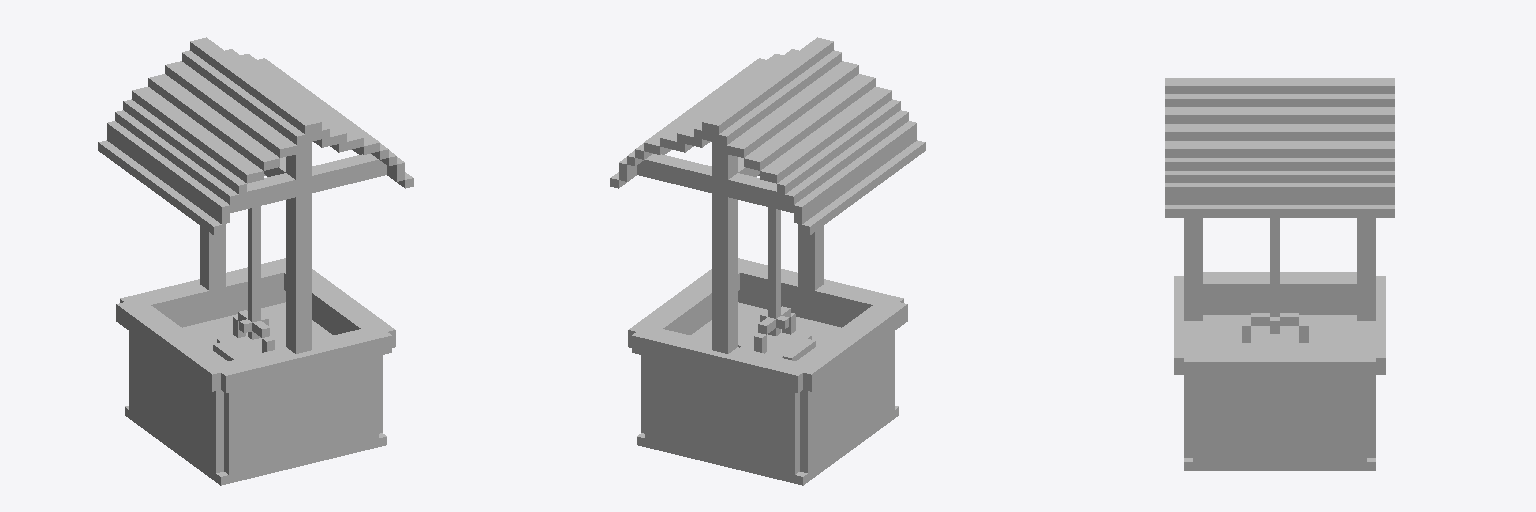
Rendered from Tarefa Poço-17.obj.
3 renders of one model, left to right at view 1: azimuth 30°, elevation 25°; view 2: azimuth 150°, elevation 25°; view 3: azimuth 270°, elevation 25°, orthographic.
Size of the model in its own units: 24 by 40 by 24.